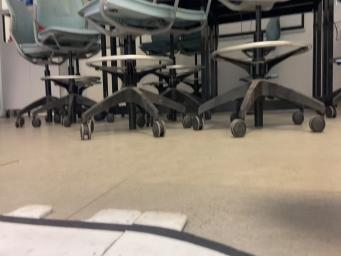street: (0, 215, 252, 256), (0, 215, 252, 256), (0, 215, 252, 256), (0, 215, 252, 256), (0, 215, 252, 256), (0, 215, 252, 256)
